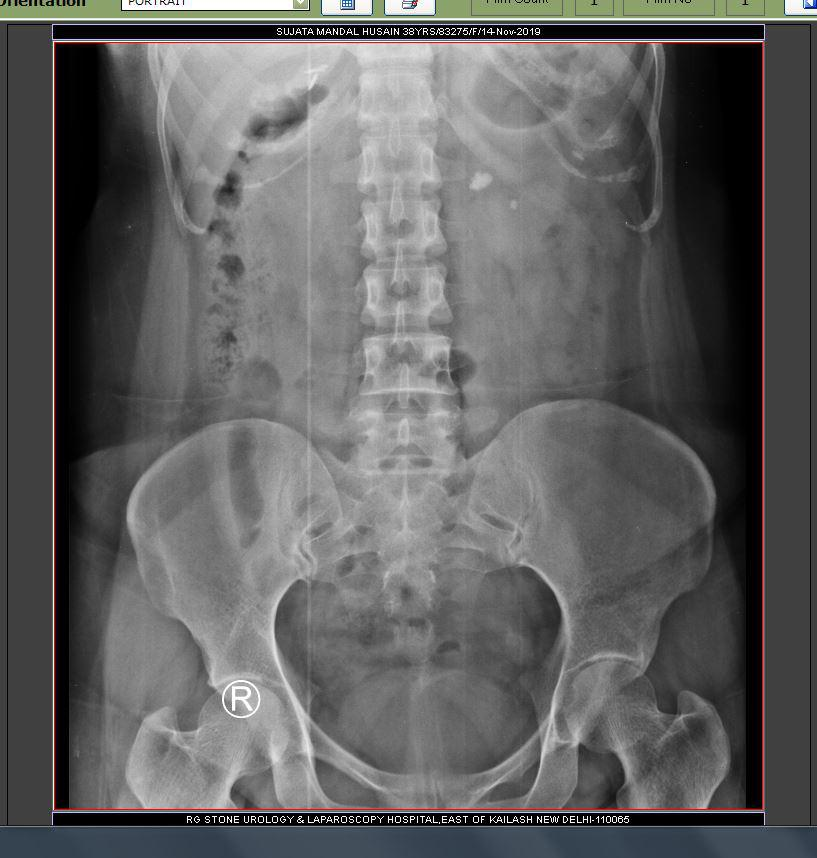bladder: (333, 662, 524, 775)
vertebrae: (355, 131, 440, 193)
